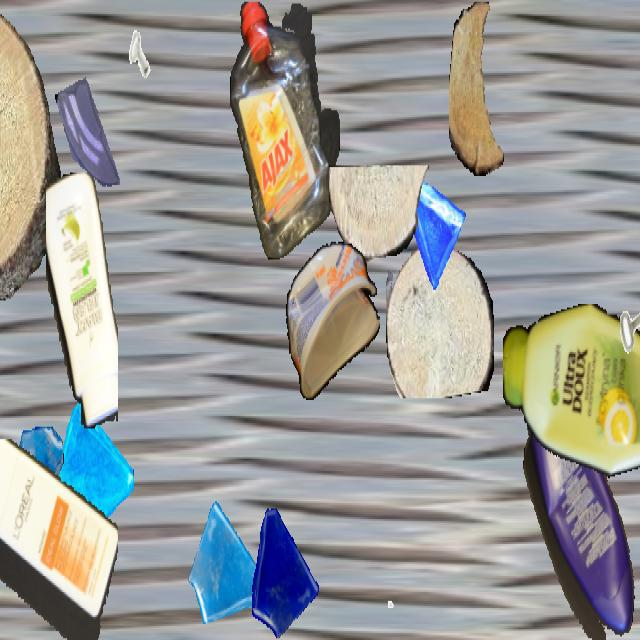glass: (40, 400, 134, 567), (188, 496, 268, 638), (243, 500, 321, 638), (396, 167, 466, 292), (54, 68, 124, 192), (4, 427, 64, 533)
metal: (599, 254, 640, 361), (121, 21, 159, 89), (363, 553, 401, 620), (0, 165, 17, 268)
plastic: (520, 386, 640, 638), (229, 2, 339, 258), (503, 304, 640, 482), (0, 439, 118, 638), (46, 172, 118, 428), (286, 242, 380, 402)
wood: (0, 2, 60, 300), (386, 242, 494, 398), (449, 2, 509, 176), (329, 166, 429, 262)
